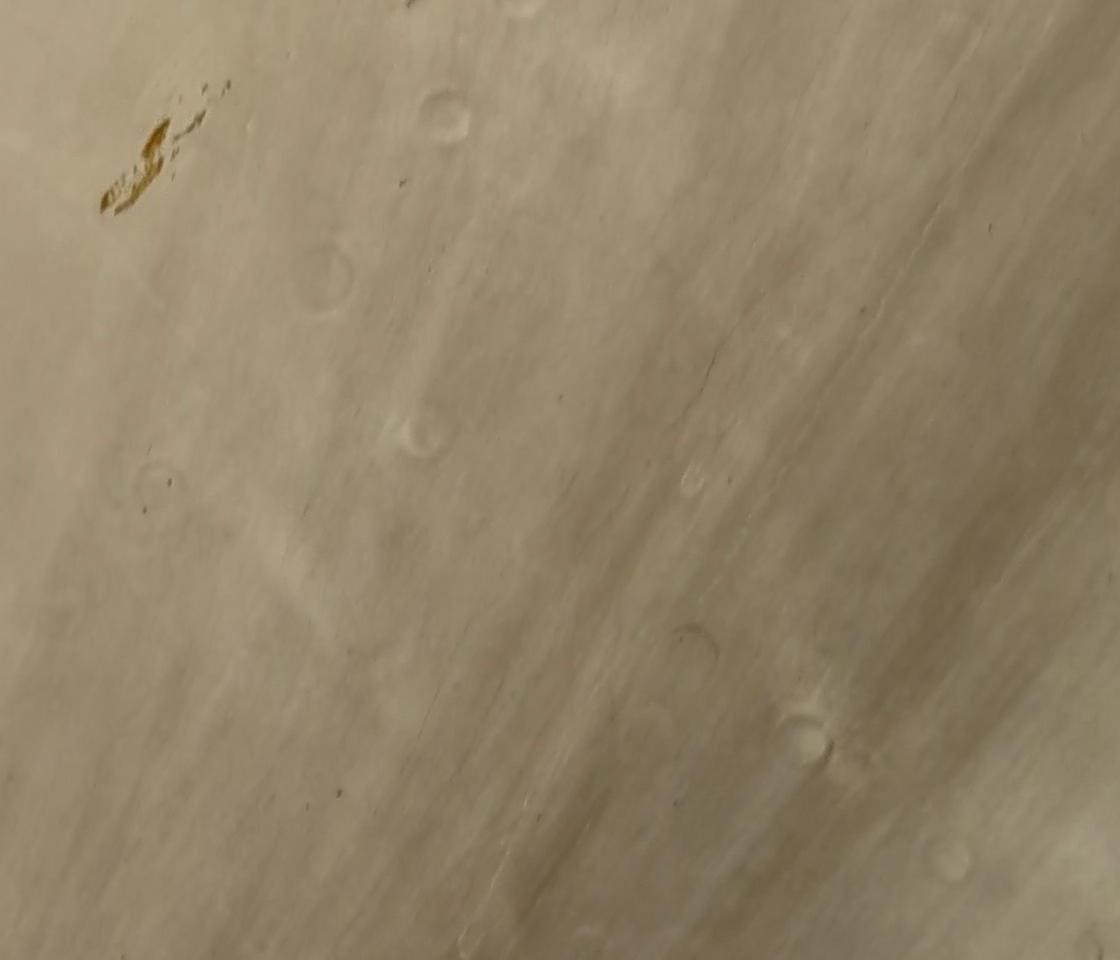scratch: (102, 108, 179, 220)
